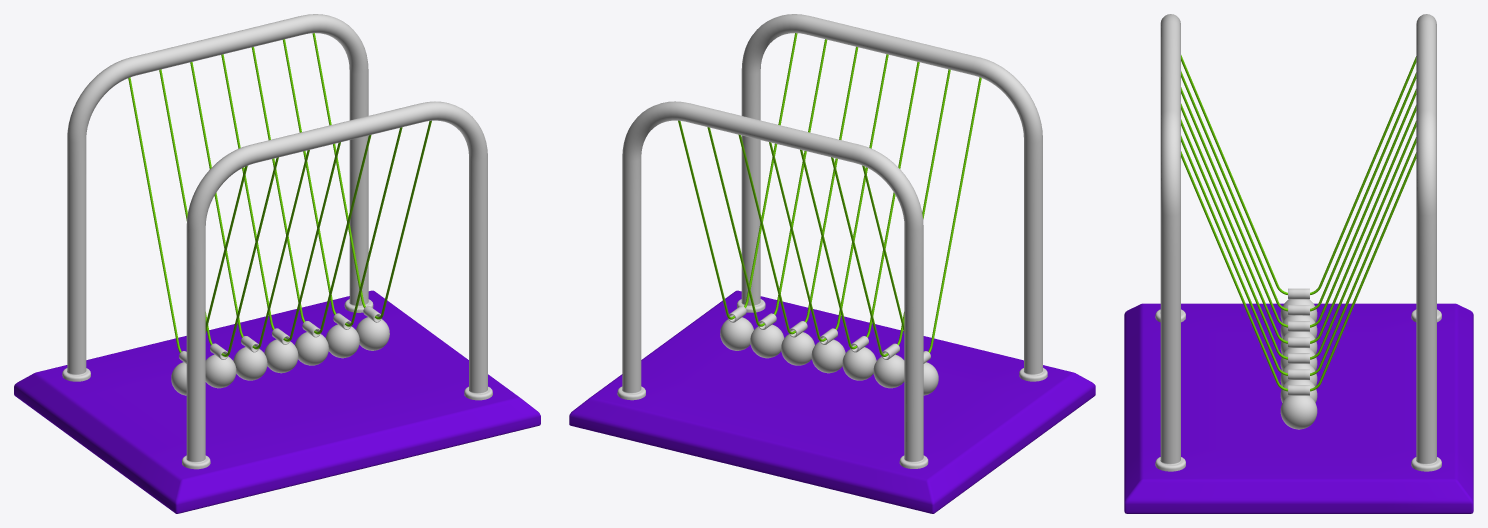
The model's file is newtonPend.fbx.
The picture shows the model from 3 angles, left to right: view 1: azimuth 30°, elevation 25°; view 2: azimuth 150°, elevation 25°; view 3: azimuth 270°, elevation 25°; orthographic projection. The views are drawn at different scales.
Parts seen in each view (by area): view 1: NewtonPend; view 2: NewtonPend; view 3: NewtonPend.
Part boxes in pixels (x1,y1,x2,y2): NewtonPend: (14,14,540,513); NewtonPend: (569,14,1095,513); NewtonPend: (1124,14,1473,513).
Size of the model in its own units: 22 by 19 by 17.
